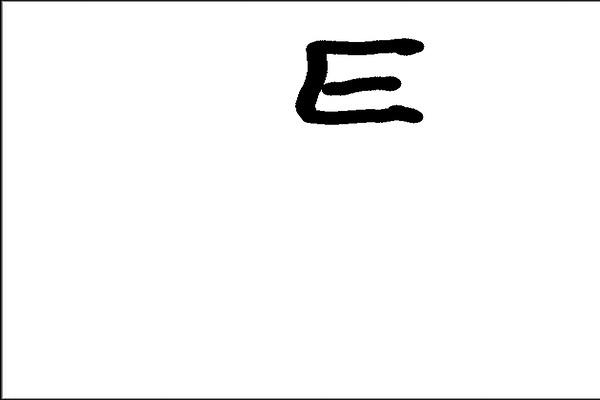E: (290, 34, 429, 130)
